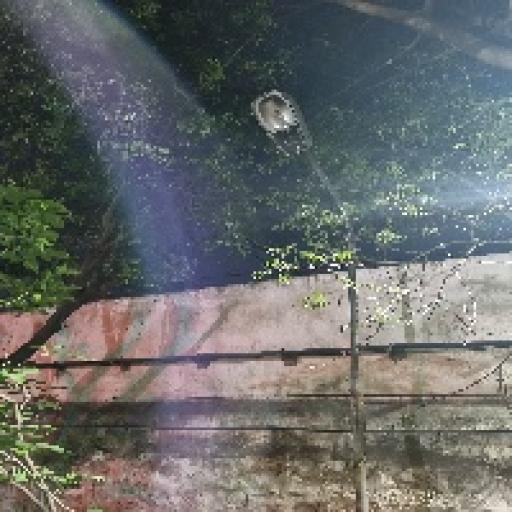Not Working: (244, 80, 328, 171)
